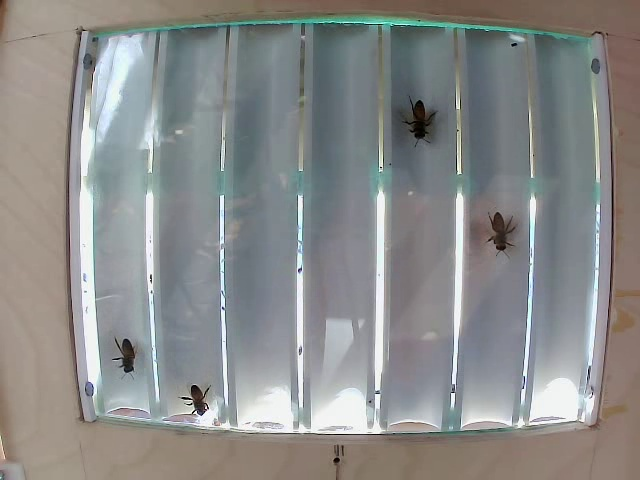bee: (488, 197, 521, 261), (406, 89, 442, 144), (187, 378, 218, 420), (108, 342, 141, 373)
